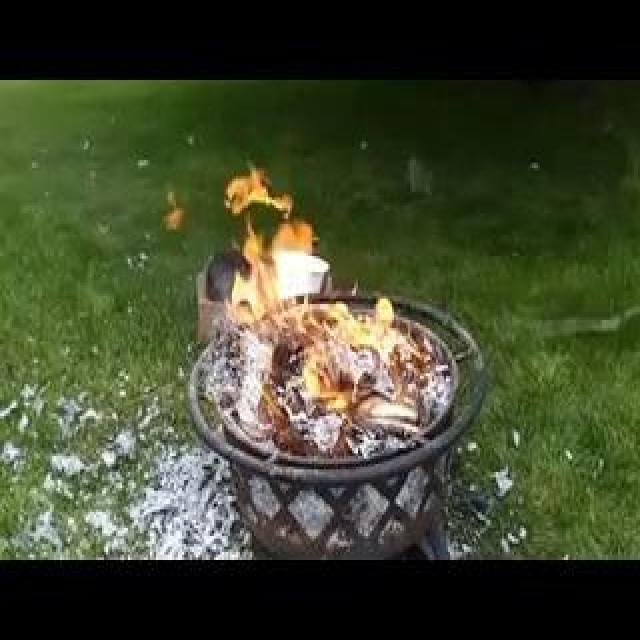Fire: (240, 294, 293, 336)
